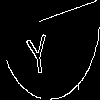Y: (25, 25, 50, 77)
